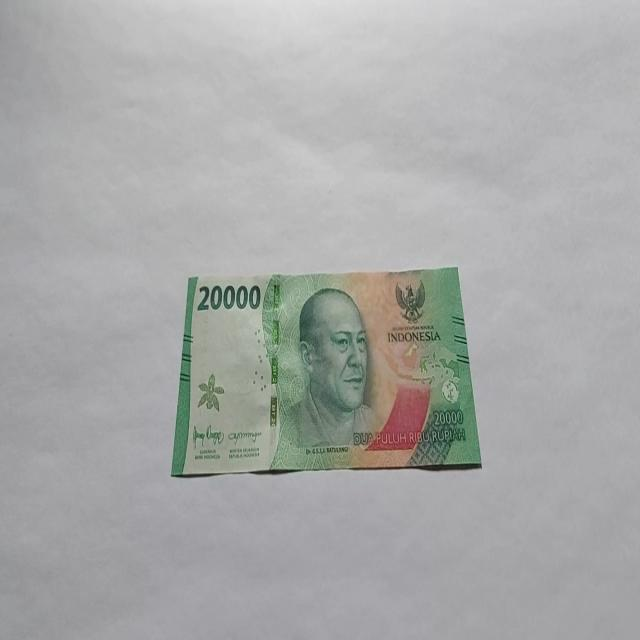dua puluh ribu rupiah: (170, 264, 482, 478)
